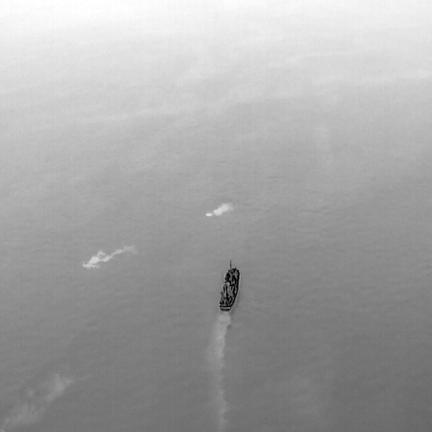flukeprints: (212, 203, 232, 215), (82, 256, 100, 268), (100, 254, 112, 262), (96, 251, 105, 259), (206, 213, 212, 216)
